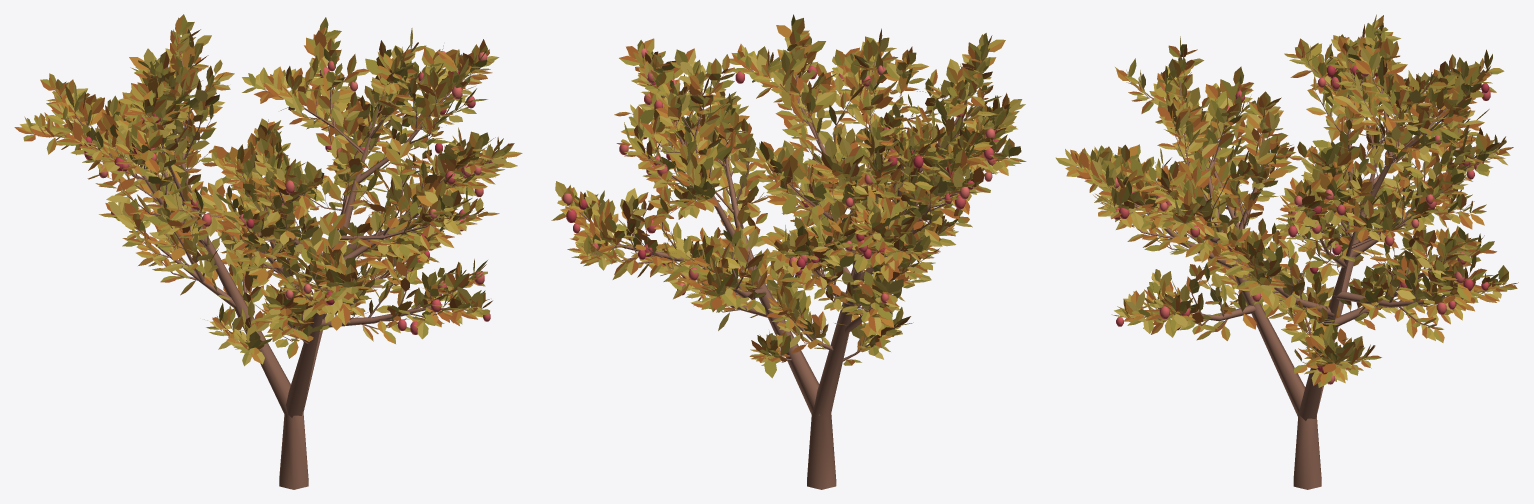
The model's file is prunier_belle_automne.glb.
3 views of the same model, side by side, from view 1: azimuth 30°, elevation 25°; view 2: azimuth 150°, elevation 25°; view 3: azimuth 270°, elevation 25° (orthographic). The views are drawn at different scales.
Visible parts, largest first — view 1: Prunier_Feuillage, Prunier_Tronc, Prunier_Prunes; view 2: Prunier_Feuillage, Prunier_Tronc, Prunier_Prunes; view 3: Prunier_Feuillage, Prunier_Tronc, Prunier_Prunes.
Part boxes in pixels (<box>): Prunier_Feuillage: <box>14,14,522,366</box>; Prunier_Tronc: <box>33,44,490,489</box>; Prunier_Prunes: <box>80,51,492,334</box>; Prunier_Feuillage: <box>551,14,1026,378</box>; Prunier_Tronc: <box>571,52,1009,489</box>; Prunier_Prunes: <box>562,48,998,303</box>; Prunier_Feuillage: <box>1055,14,1518,387</box>; Prunier_Tronc: <box>1076,56,1503,489</box>; Prunier_Prunes: <box>1114,40,1490,384</box>.
Size of the model in its own units: 3.83 by 3.94 by 3.97.
